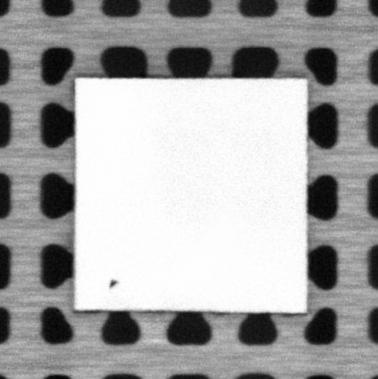DIE_INK: (107, 277, 119, 290)
